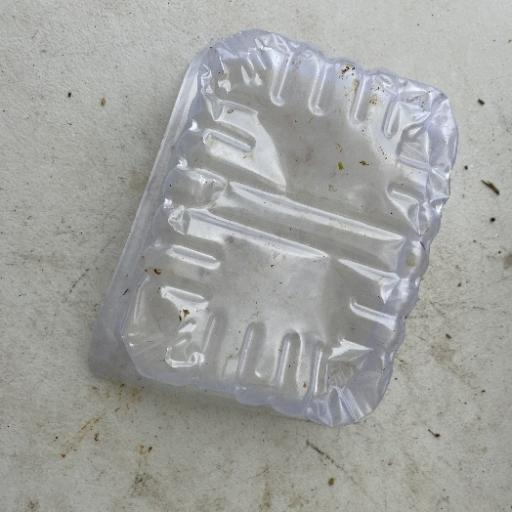Plastic: (89, 27, 460, 427)
